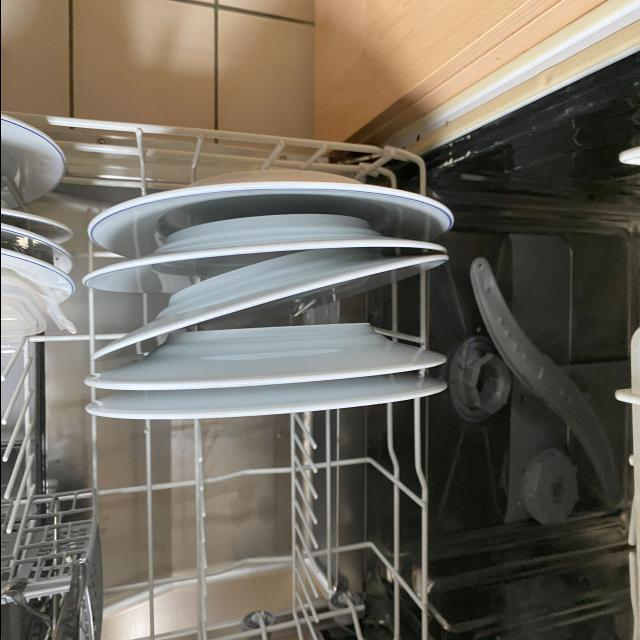empty_slot: (112, 425, 396, 640)
